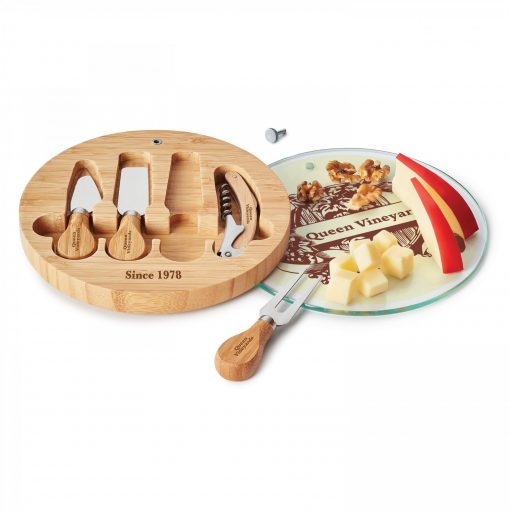cheese: (381, 137, 494, 298), (326, 219, 422, 315)
